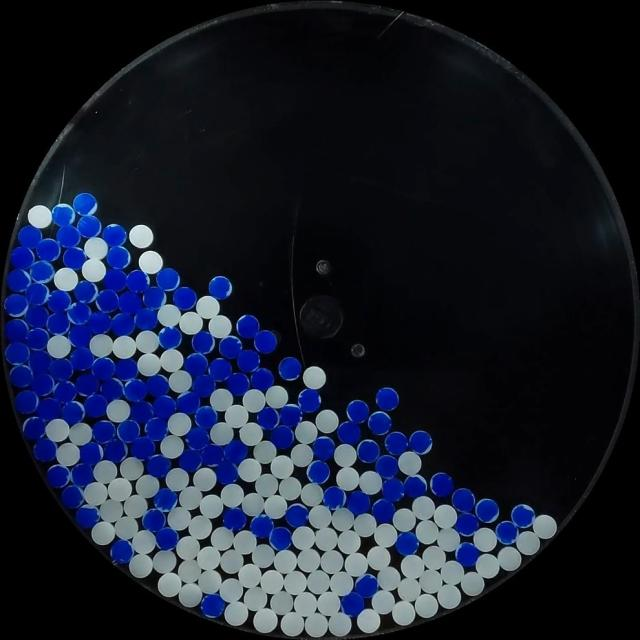pmmma-azul: (200, 593, 227, 617), (91, 356, 116, 381), (78, 441, 103, 466), (192, 372, 217, 397), (10, 245, 35, 270), (510, 503, 535, 528), (46, 289, 72, 313), (4, 341, 30, 365), (130, 436, 156, 460), (56, 224, 82, 248), (31, 372, 55, 398), (215, 460, 239, 486), (110, 538, 134, 564), (354, 572, 378, 598), (4, 293, 29, 317), (61, 400, 85, 425), (152, 394, 176, 419), (46, 464, 71, 488), (37, 397, 62, 421), (60, 485, 84, 510), (103, 439, 128, 463), (36, 238, 61, 262), (75, 504, 100, 528), (430, 472, 454, 497), (4, 318, 29, 342), (454, 512, 478, 537), (153, 488, 178, 512), (69, 324, 93, 349), (340, 592, 365, 616), (154, 526, 179, 550), (475, 498, 499, 523), (395, 531, 419, 556), (452, 487, 476, 512), (48, 358, 74, 381), (72, 193, 98, 216), (74, 280, 98, 304), (92, 420, 116, 444), (84, 393, 108, 417), (145, 374, 169, 398), (184, 352, 208, 376), (194, 405, 218, 429), (134, 307, 158, 331), (256, 406, 280, 430), (250, 367, 274, 391), (70, 346, 94, 370), (117, 419, 141, 443), (96, 289, 120, 313), (10, 364, 34, 388), (22, 416, 46, 440), (142, 508, 166, 532), (298, 388, 322, 412), (71, 462, 95, 486), (110, 312, 134, 336), (384, 431, 408, 455), (158, 326, 182, 350), (33, 438, 57, 462), (125, 270, 149, 294), (322, 486, 346, 510), (375, 387, 399, 411), (46, 311, 70, 335), (100, 378, 124, 402), (87, 310, 111, 334), (306, 460, 330, 484), (14, 390, 38, 414), (114, 357, 138, 381), (311, 436, 335, 460), (7, 268, 31, 292), (495, 520, 519, 544), (74, 372, 98, 396), (368, 410, 392, 434), (381, 477, 405, 501), (68, 302, 92, 326), (455, 542, 479, 566), (224, 439, 247, 464), (146, 454, 171, 477), (285, 503, 308, 528), (372, 498, 395, 523), (269, 526, 292, 551), (200, 444, 225, 467), (77, 215, 102, 238), (208, 358, 232, 381), (173, 287, 197, 310), (191, 331, 215, 354), (178, 449, 202, 472), (26, 304, 49, 328), (30, 260, 54, 283), (409, 430, 432, 454), (270, 425, 294, 448), (254, 329, 277, 353), (226, 372, 250, 395), (403, 474, 426, 498), (124, 378, 147, 402), (236, 314, 260, 337), (29, 350, 52, 374), (186, 426, 209, 450), (156, 268, 180, 291), (346, 490, 369, 514), (356, 439, 379, 463), (145, 417, 168, 441), (104, 268, 128, 291), (142, 286, 166, 309), (18, 225, 42, 248), (208, 276, 232, 299), (118, 291, 142, 314), (250, 514, 273, 538), (337, 420, 360, 444), (346, 400, 369, 424), (26, 282, 50, 305), (102, 224, 127, 246), (237, 349, 260, 372), (279, 404, 302, 427), (177, 391, 200, 414), (278, 356, 301, 379), (52, 203, 75, 226), (223, 507, 246, 530), (63, 247, 87, 269), (219, 336, 243, 358), (376, 454, 398, 478), (106, 246, 130, 268)
